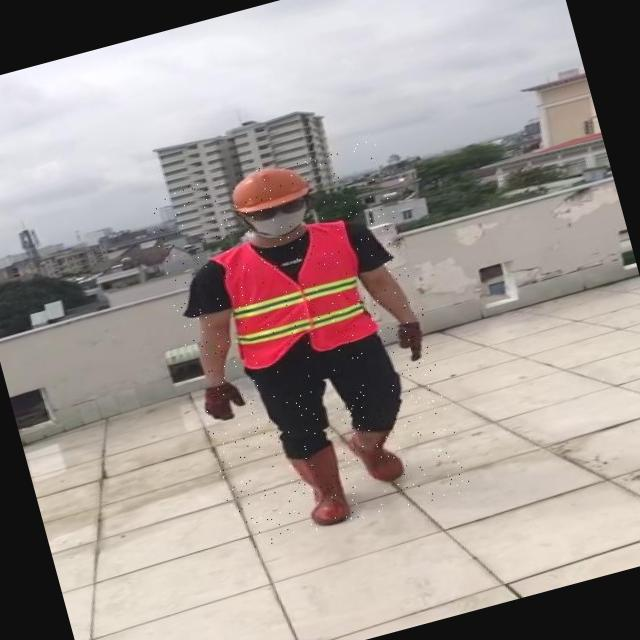boots: (284, 444, 354, 530), (344, 416, 411, 488)
helmet: (220, 156, 316, 218)
vest: (210, 216, 382, 375)
